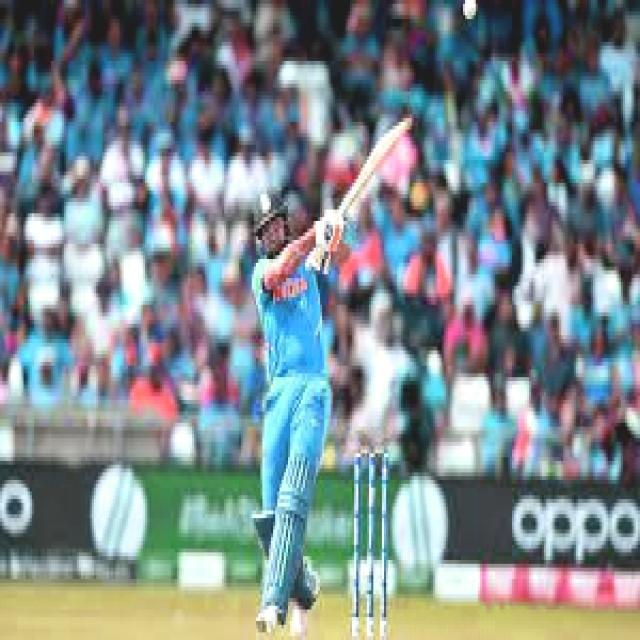toe: (392, 120, 408, 144)
